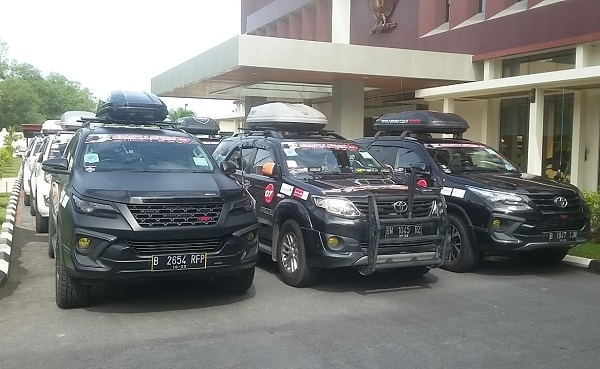plate: (152, 254, 206, 268), (386, 225, 422, 240), (549, 229, 577, 244)
